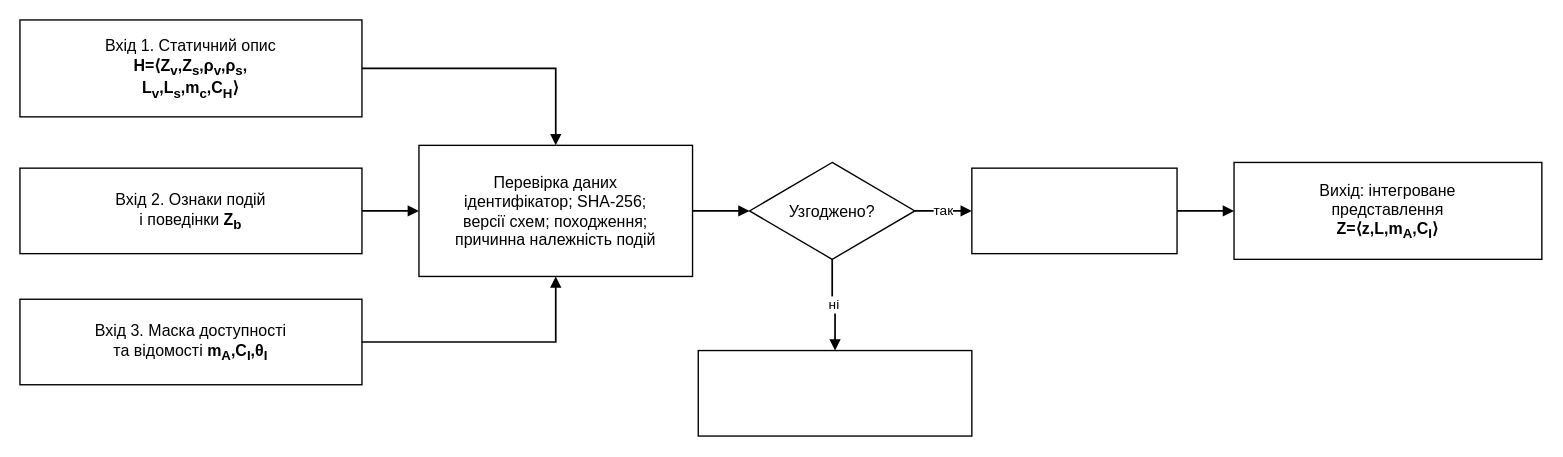
The diagram is 1563 pixels wide and 457 high, and some of its shapes have lost their labels. The centre of each missing label's shape, as x and y in pixels:
Узгоджене об’єднання F I: the point at 1074,210
Інтеграцію припинено; представлення Z не формують: the point at 834,392
